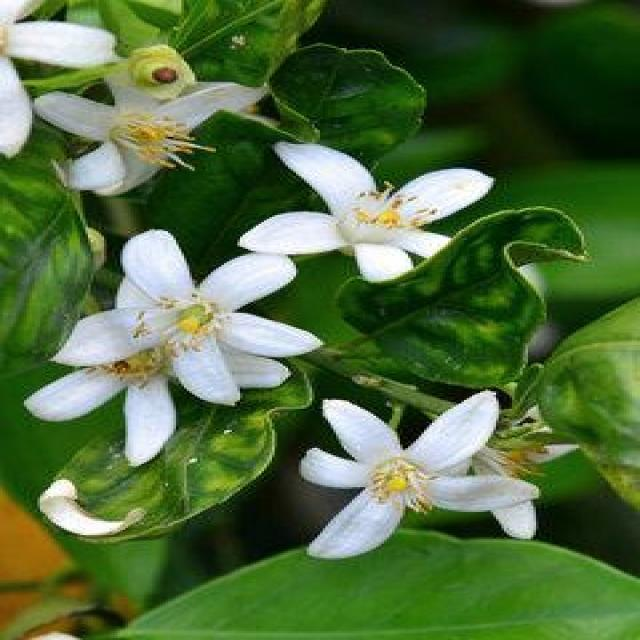Bunga: (302, 394, 542, 564), (53, 229, 310, 384), (251, 140, 477, 278), (21, 341, 288, 455), (37, 78, 259, 187)
